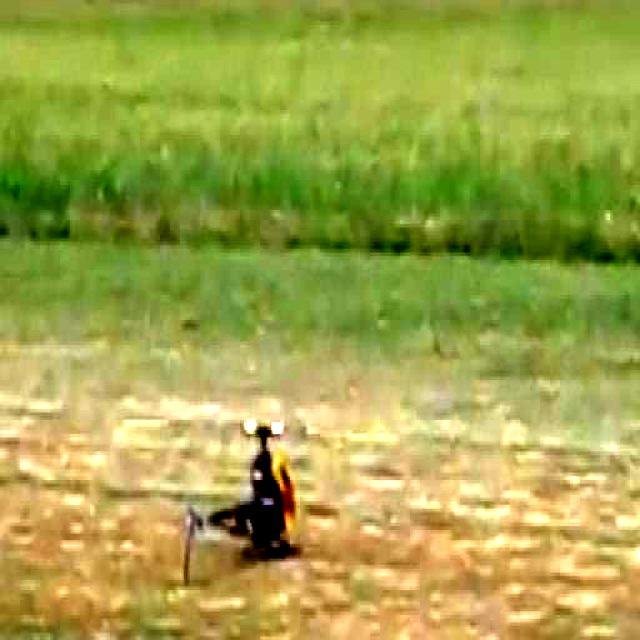drone: (184, 389, 325, 568)
